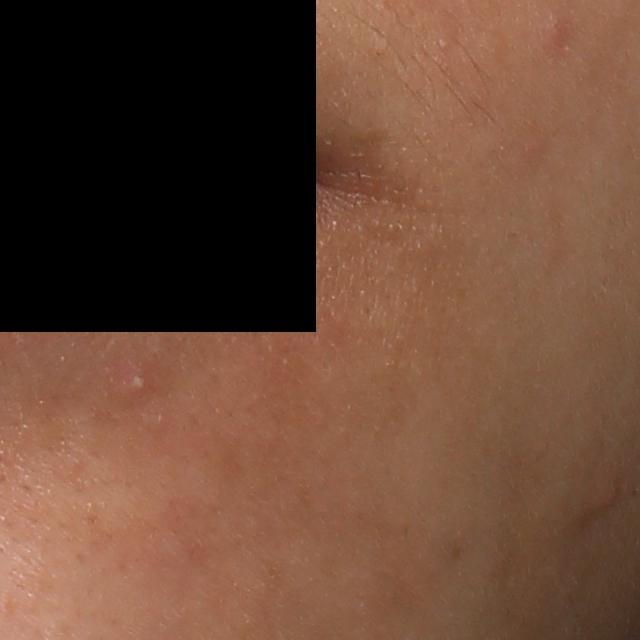papule: (583, 475, 623, 522), (537, 12, 571, 62)
pustule: (110, 366, 149, 405)
